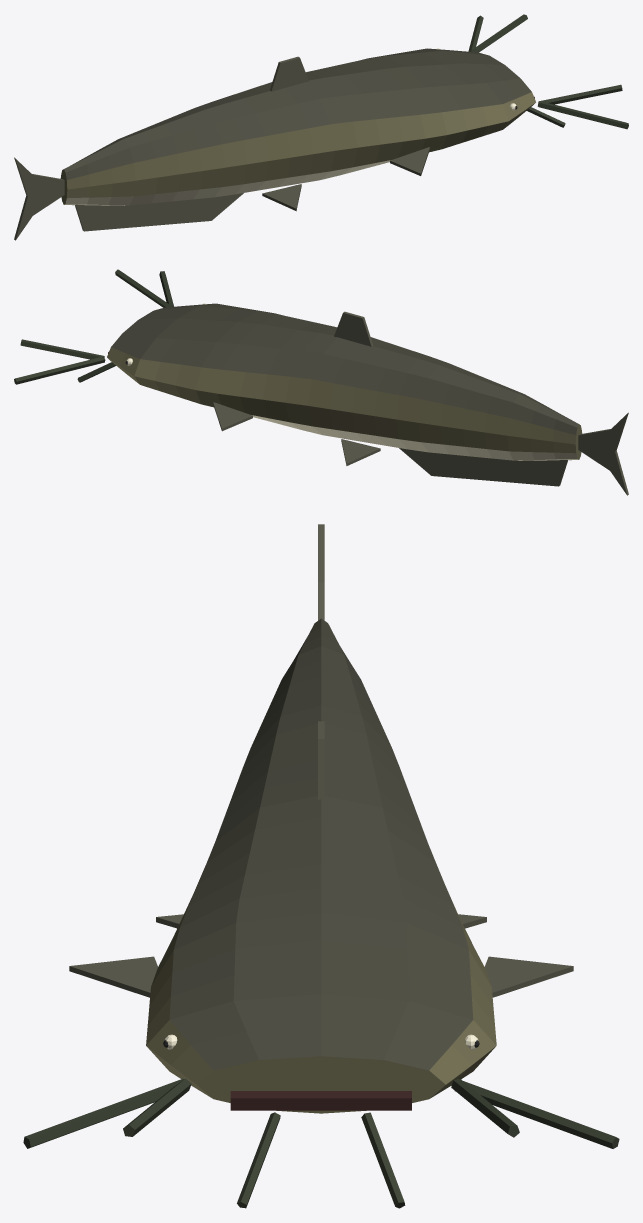
The model's file is riesenwels.glb.
3 views of the same model, one above another, from view 1: azimuth 30°, elevation 25°; view 2: azimuth 150°, elevation 25°; view 3: azimuth 270°, elevation 25° (orthographic). The views are drawn at different scales.
Parts seen in each view (by area): view 1: riesenwels; view 2: riesenwels; view 3: riesenwels.
Part boxes in pixels (x1=…): riesenwels: x1=14, y1=14, x2=628, y2=240; riesenwels: x1=14, y1=269, x2=628, y2=495; riesenwels: x1=23, y1=524, x2=619, y2=1208.
Size of the model in its own units: 1 by 0.2419 by 0.4611.
